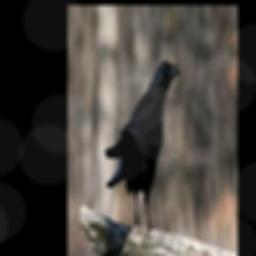Crow: (104, 56, 182, 240)
